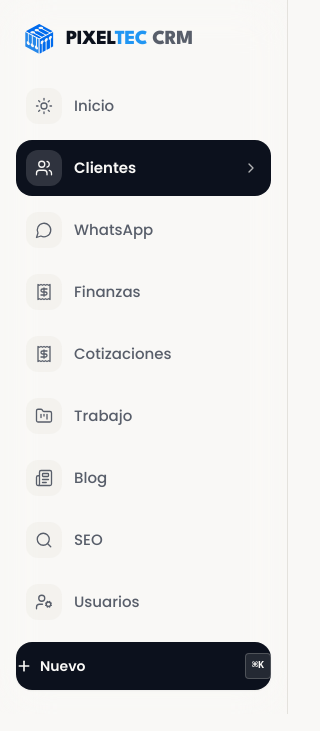
submenú desplegable del sidebar › el área de Clientes (CRM) también tiene chevron, sin código propio
Expected: the text "Leads" is not shown
Click the button named "Mostrar submenú de Clientes": (251, 168) [237, 154, 265, 182]
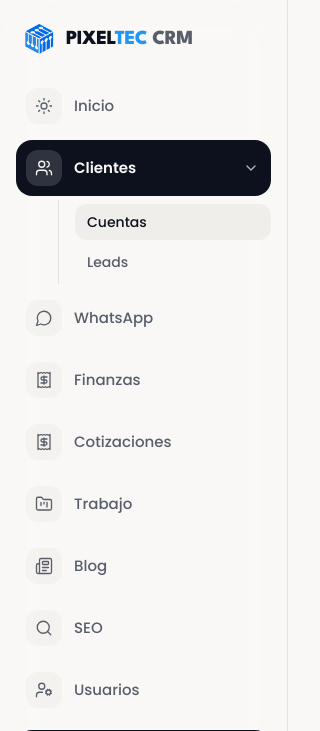
Expected: the link "Leads" is shown, [87, 252, 128, 272]
